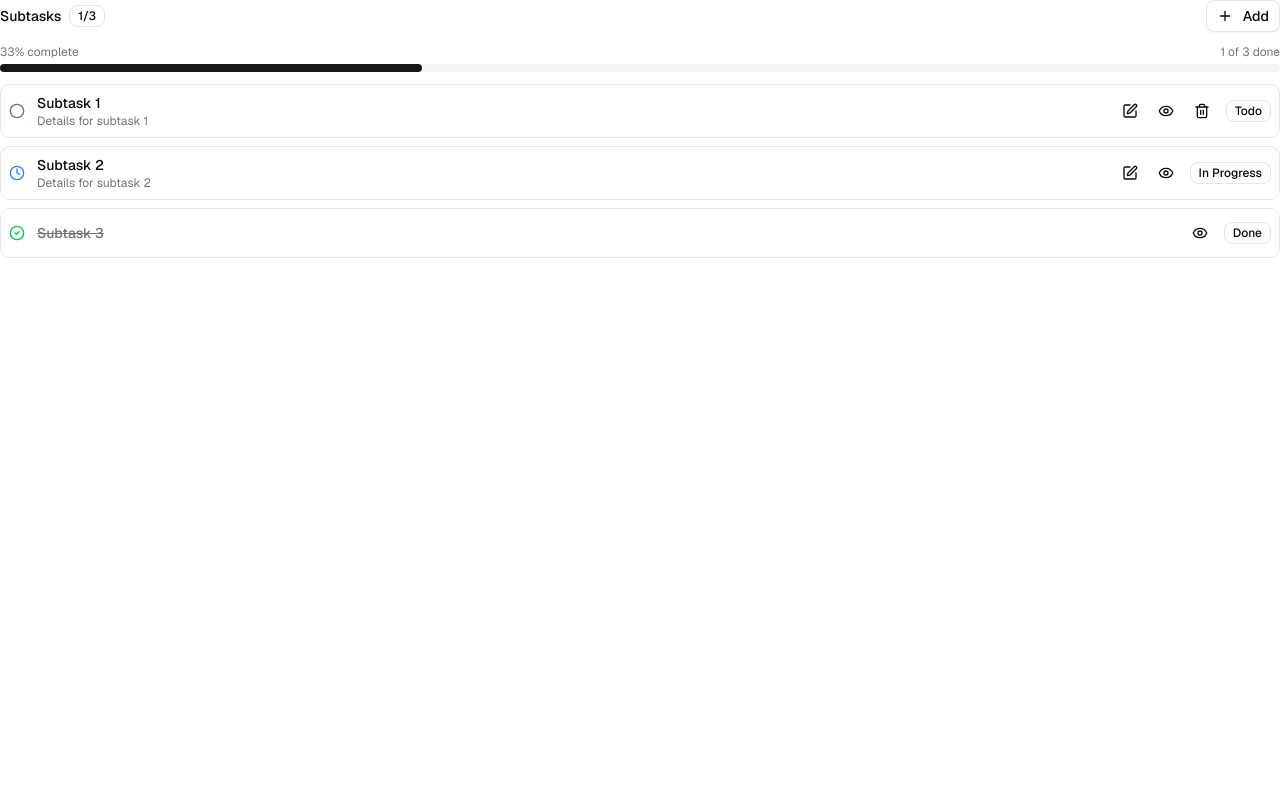
Test case: SubtaskList › Delete Functionality › opens delete confirmation dialog when delete button is clicked
// Find and click the first delete button
Click the button titled "Delete subtask" at coordinates (1202, 111), box [1186, 95, 1218, 127]
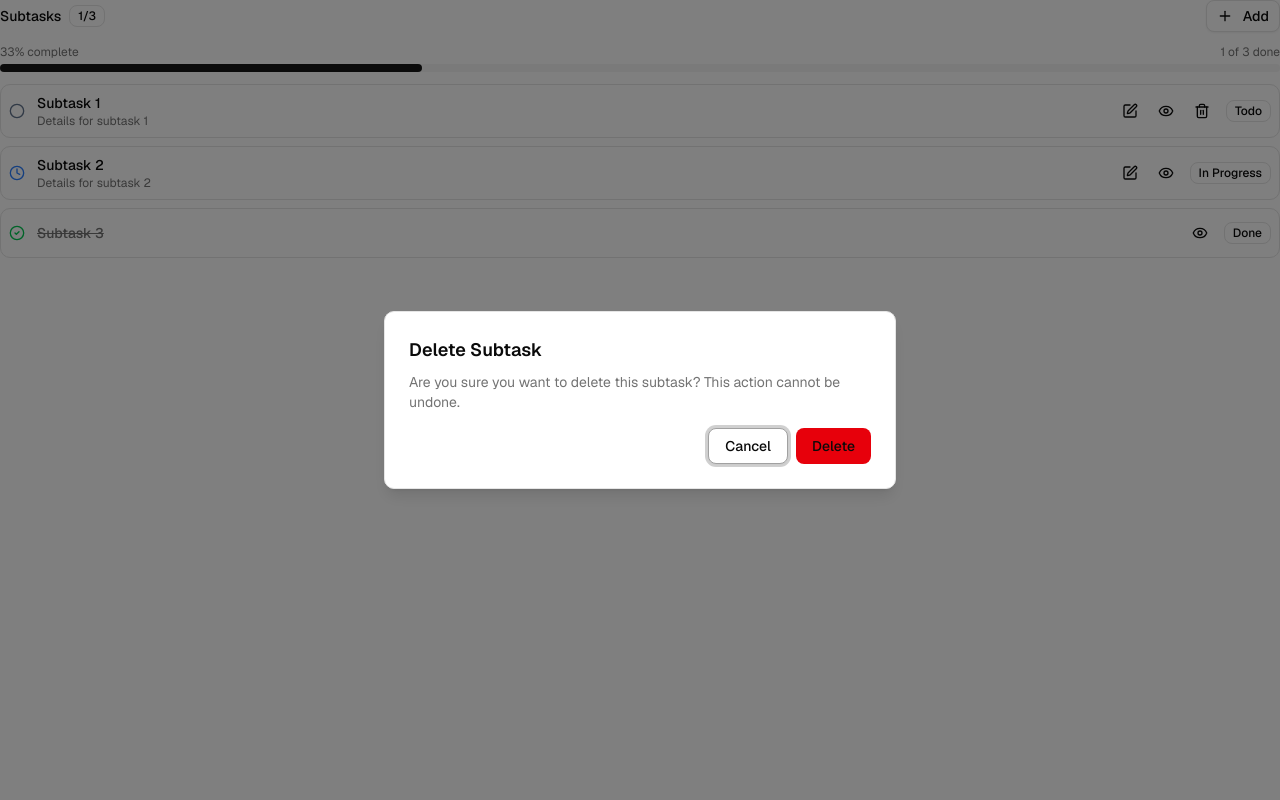
Check: the dialog is shown, box [384, 311, 896, 489]
Check: the heading "Delete Subtask" is shown, box [409, 338, 542, 361]
Check: the text "Are you sure you want to delete this subtask" is shown, box [409, 373, 840, 411]
